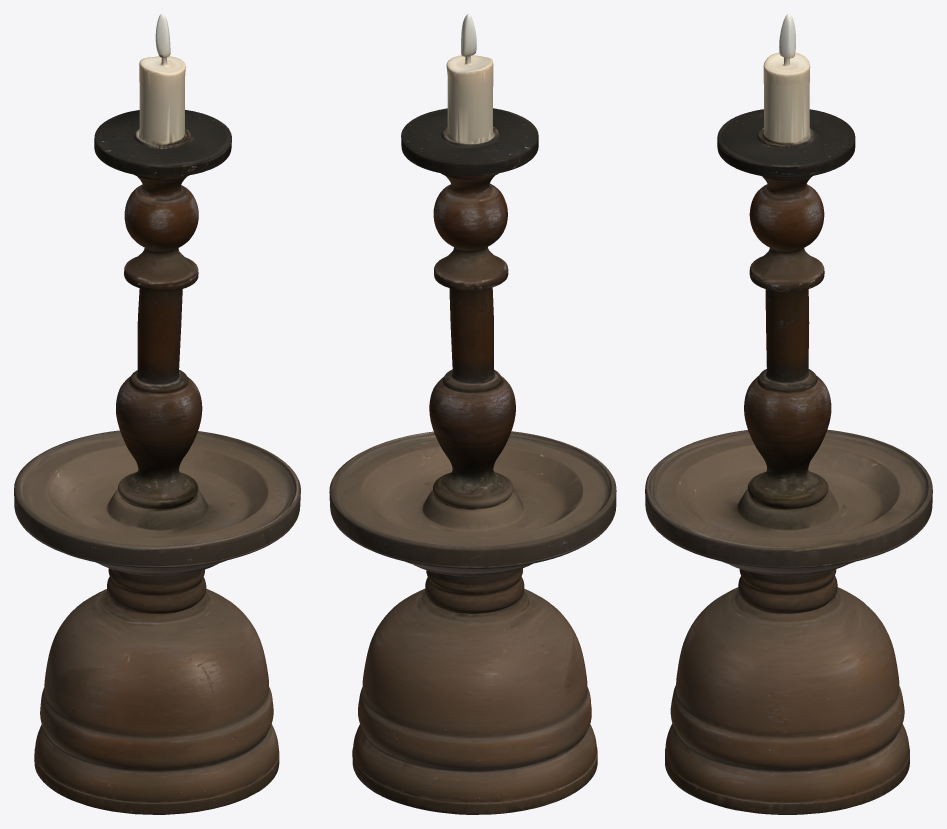
The model's file is 烛台模型.glb.
3 views of the same model, side by side, from view 1: azimuth 30°, elevation 25°; view 2: azimuth 150°, elevation 25°; view 3: azimuth 270°, elevation 25° (orthographic).
Visible parts, largest first — view 1: node_0; view 2: node_0; view 3: node_0.
Boxes of the visible parts, left/top/right/bottom form: node_0: left=14, top=14, right=300, bottom=814; node_0: left=329, top=14, right=616, bottom=814; node_0: left=645, top=14, right=932, bottom=814.
Bounding box in the file's own units: 0.3979 × 1.15 × 0.3985.
Materials: 1 (1 with a texture image).
